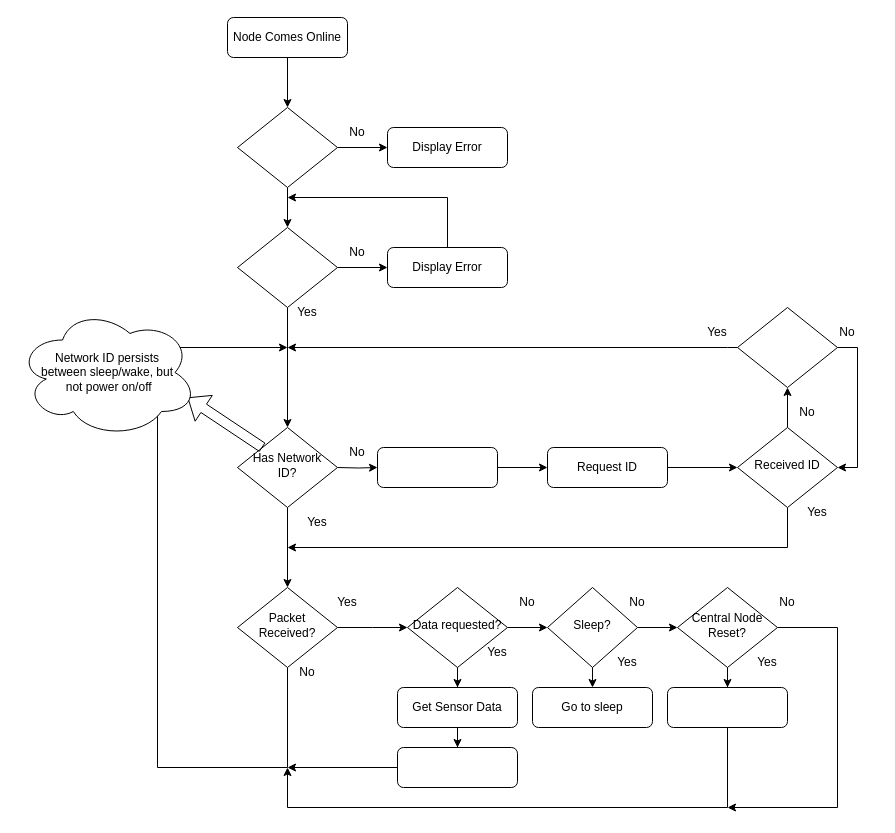
Some shapes in this 895 by 833 pixel diagram are drawn without their labels. Each missing label, with the centre of its shape:
"5 Seconds has passed" belongs at pixel 787 347.
"Has hardware ID?" belongs at pixel 287 147.
"Random Delay" belongs at pixel 437 467.
"Remove Network ID" belongs at pixel 727 707.
"Send Sensor Data" belongs at pixel 457 767.
"Sensors working?" belongs at pixel 287 267.
